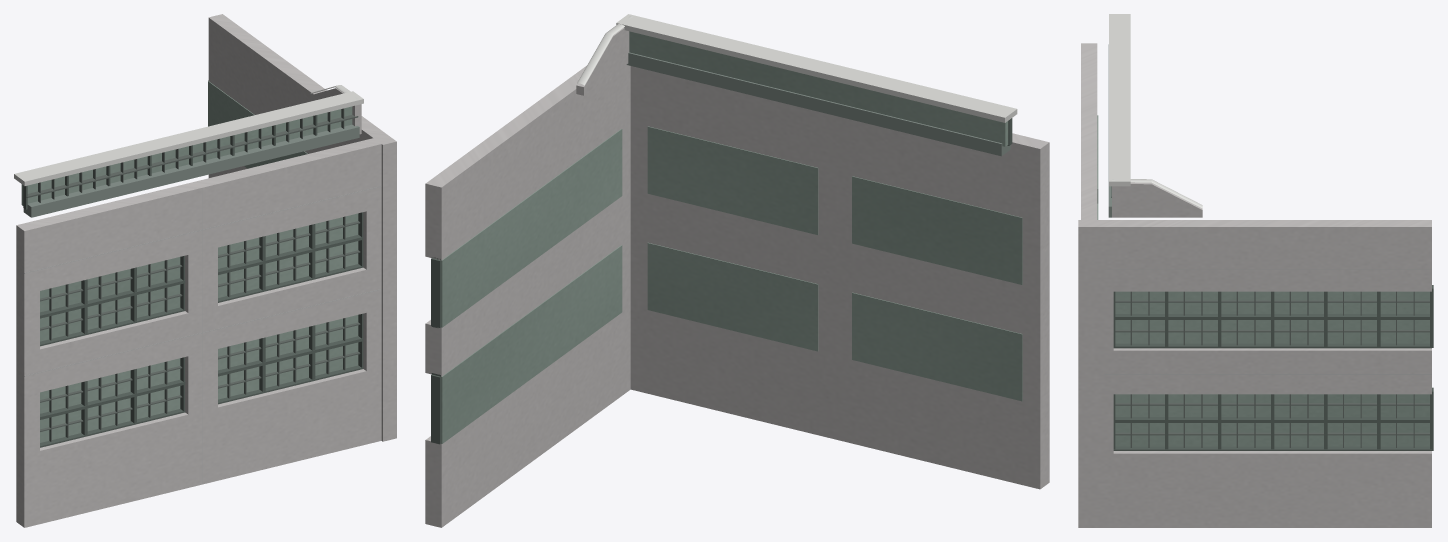
The model's file is west-bund-art-centre-ribbon-corner-near.glb.
The picture shows the model from 3 angles, left to right: view 1: azimuth 30°, elevation 25°; view 2: azimuth 150°, elevation 25°; view 3: azimuth 270°, elevation 25°; orthographic projection. The views are drawn at different scales.
Visible parts, largest first — view 1: 西岸艺术中心转角的两层钢格带窗与屋面采光窗; view 2: 西岸艺术中心转角的两层钢格带窗与屋面采光窗; view 3: 西岸艺术中心转角的两层钢格带窗与屋面采光窗.
Boxes of the visible parts, left/top/right/bottom form: 西岸艺术中心转角的两层钢格带窗与屋面采光窗: left=14, top=14, right=396, bottom=527; 西岸艺术中心转角的两层钢格带窗与屋面采光窗: left=425, top=14, right=1049, bottom=527; 西岸艺术中心转角的两层钢格带窗与屋面采光窗: left=1078, top=14, right=1433, bottom=527.
Bounding box in the file's own units: 3.01 × 2.58 × 2.46.
7 materials, 2 textured.
